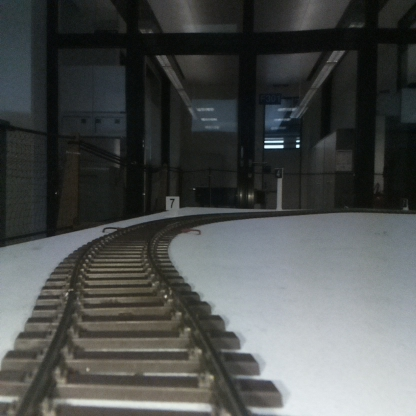black-info-4: (275, 166, 282, 209)
white-stop-7: (165, 196, 179, 215)
